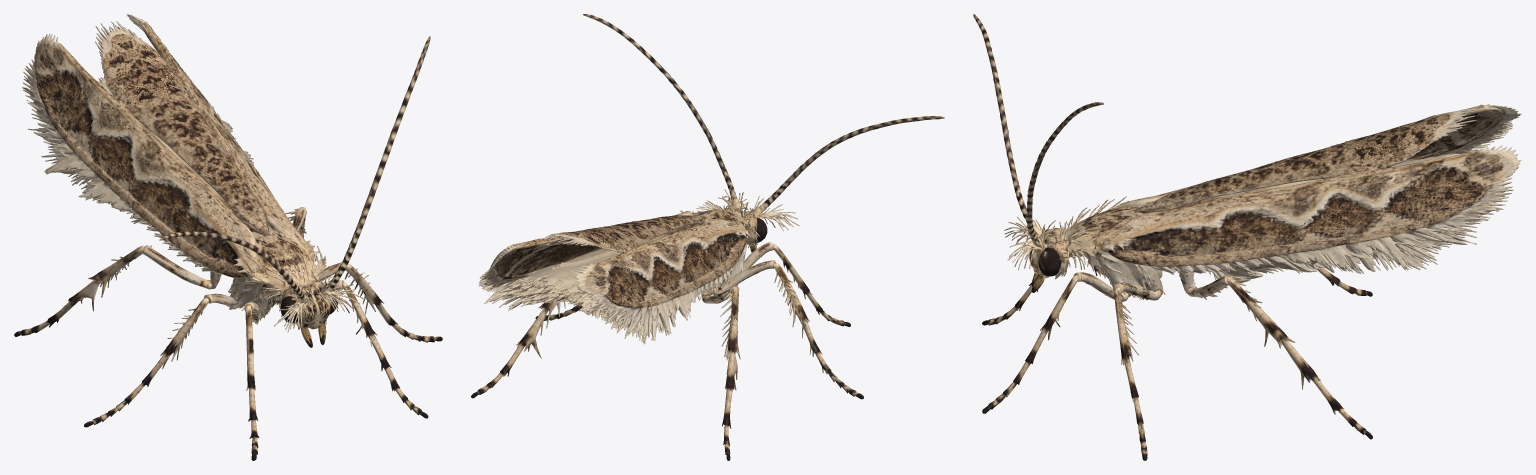
Rendered from diamondback-blender.glb.
3 views of the same model, side by side, from view 1: azimuth 30°, elevation 25°; view 2: azimuth 150°, elevation 25°; view 3: azimuth 270°, elevation 25° (orthographic). The views are drawn at different scales.
Visible parts, largest first — view 1: Mesh_0; view 2: Mesh_0; view 3: Mesh_0.
Part boxes in pixels (bbox=[...]): Mesh_0: bbox=[14, 14, 442, 460]; Mesh_0: bbox=[471, 14, 944, 460]; Mesh_0: bbox=[973, 14, 1521, 460].
Size of the model in its own units: 1.54 by 1.31 by 1.91.
Materials: 1 (1 with a texture image).
